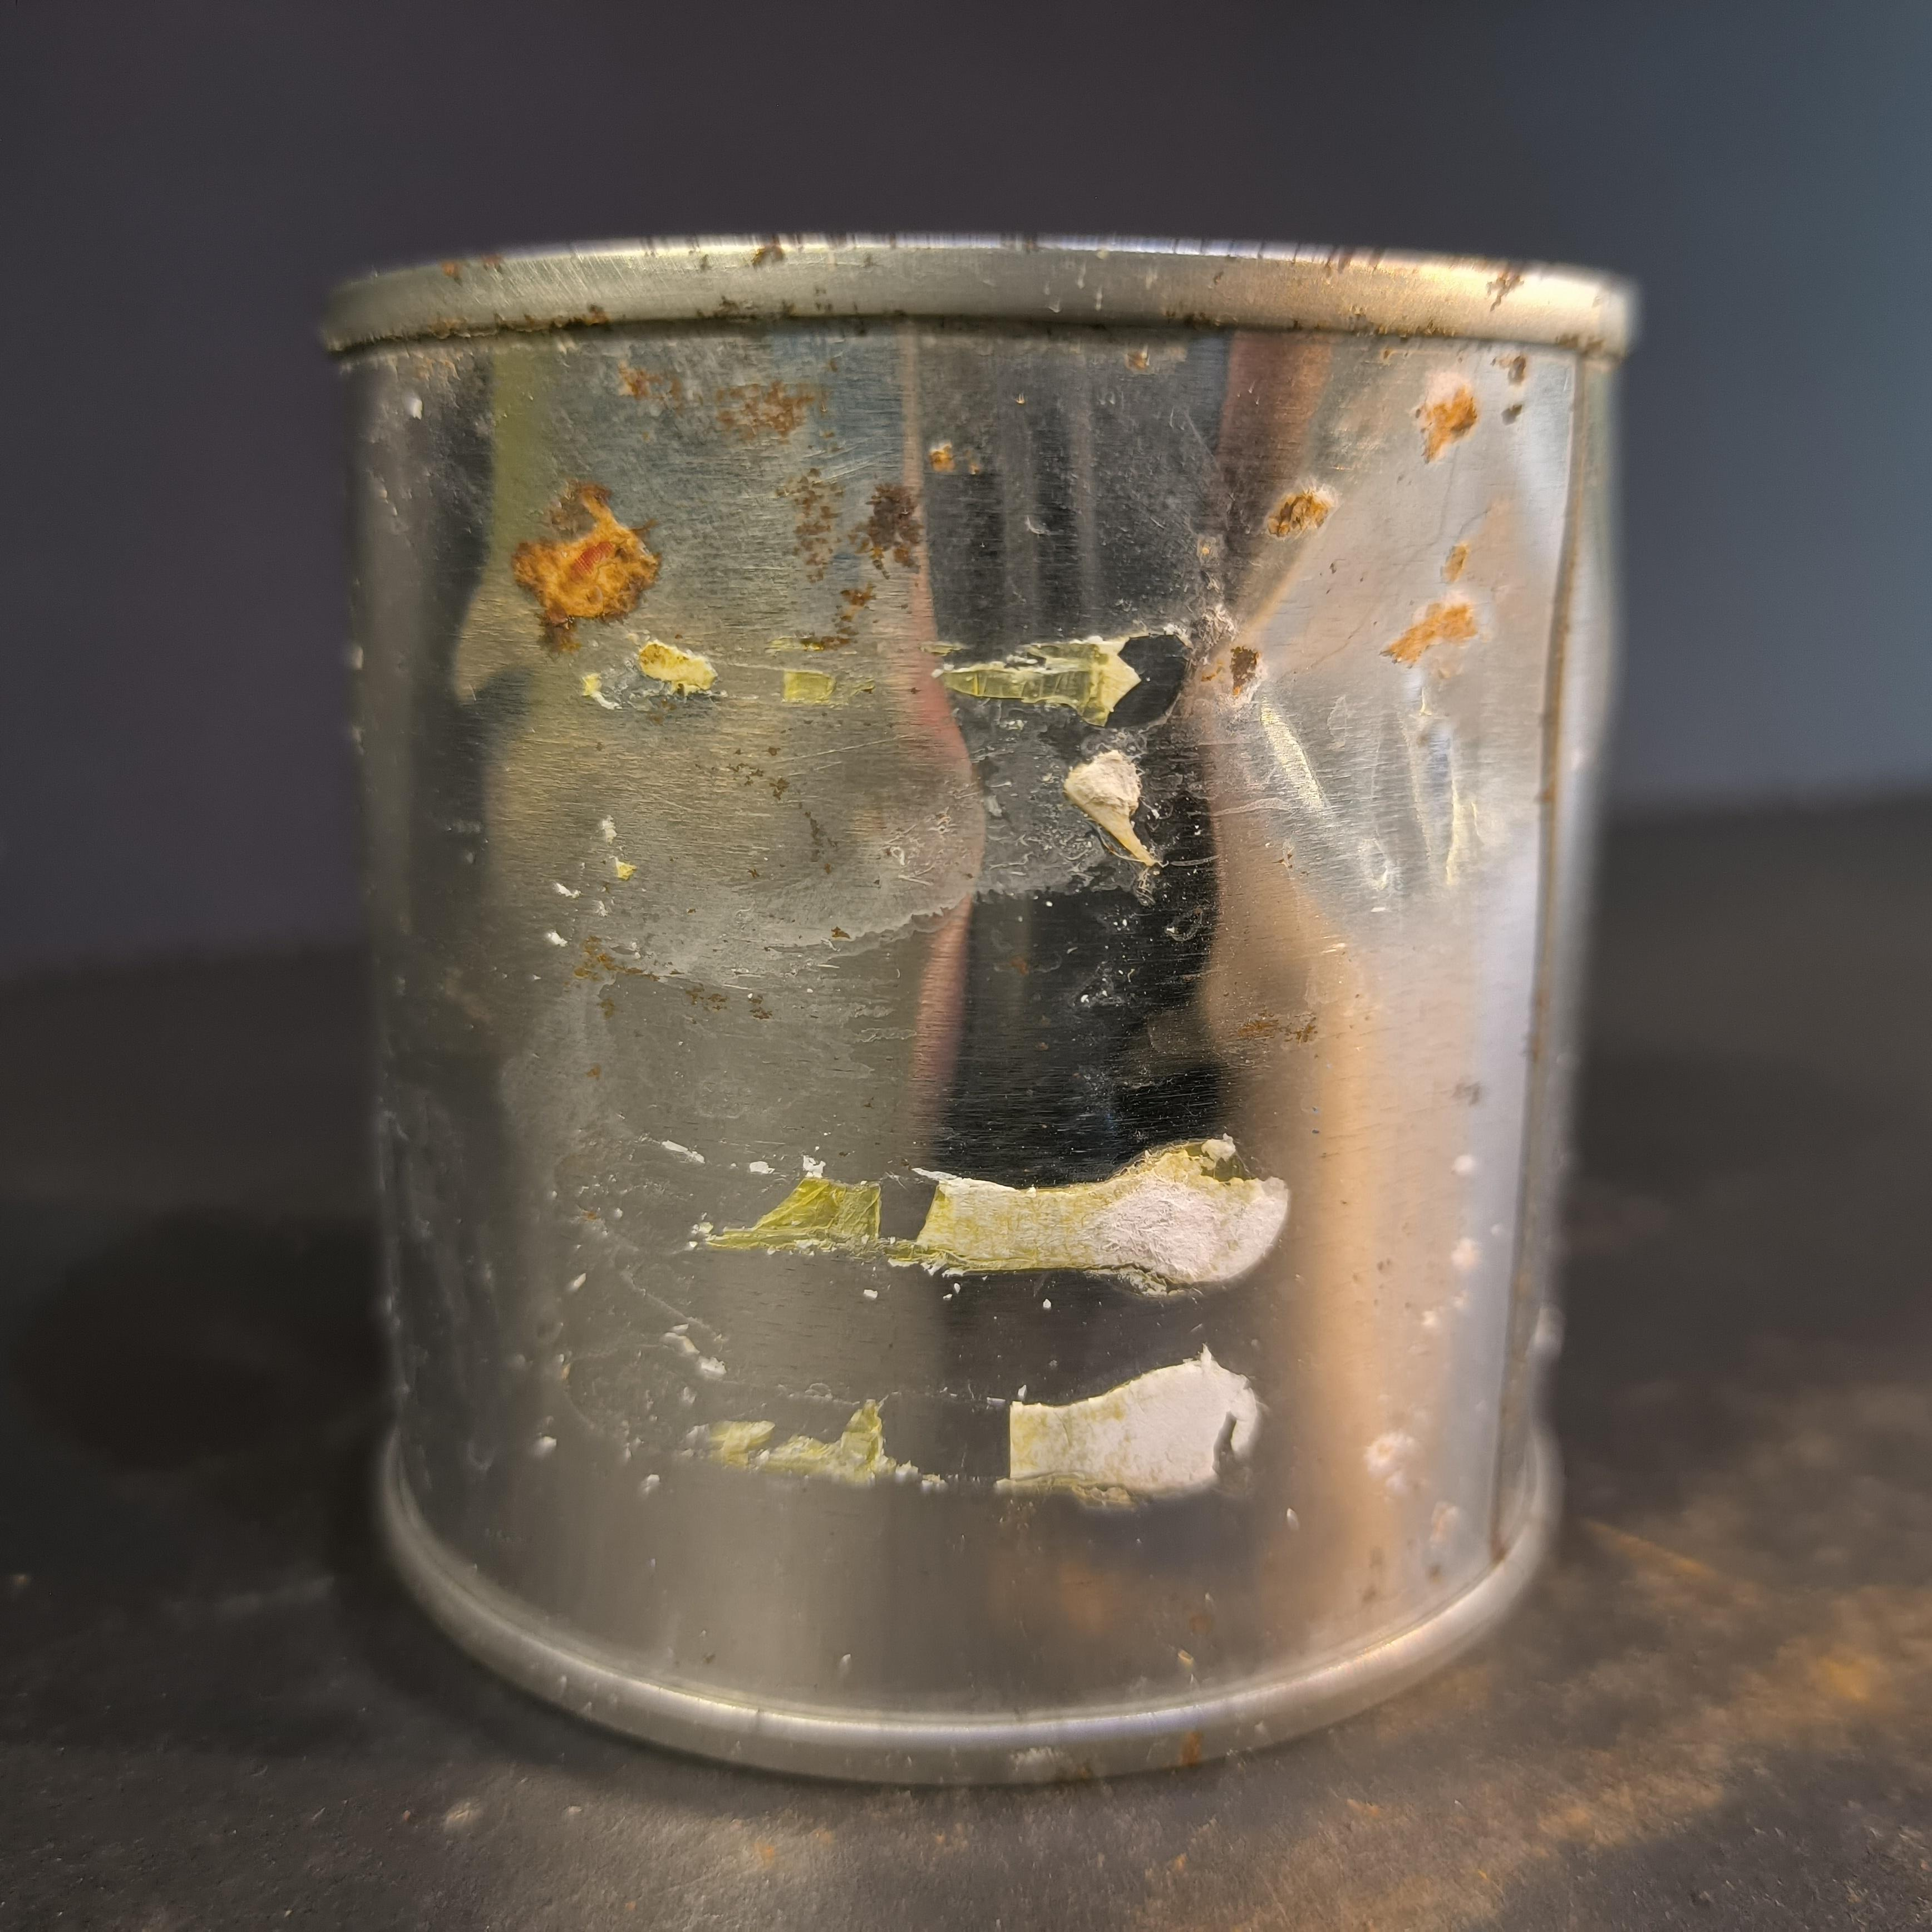Rusted: (283, 209, 1663, 1773)
